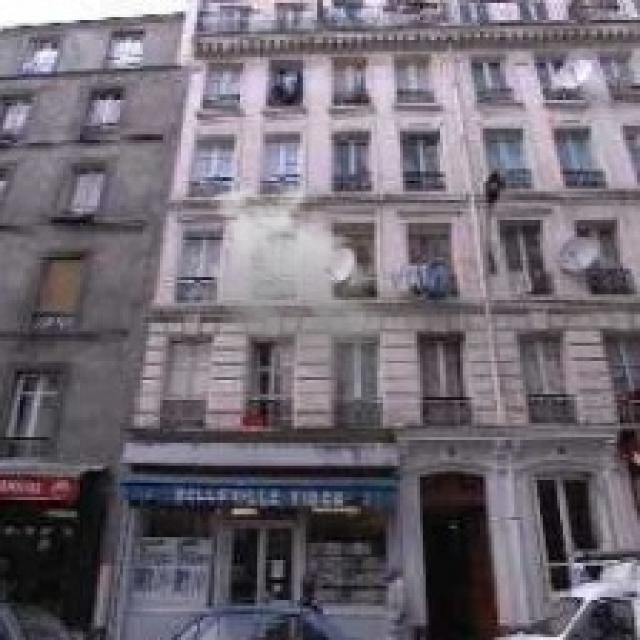Smoke: (202, 183, 408, 386)
